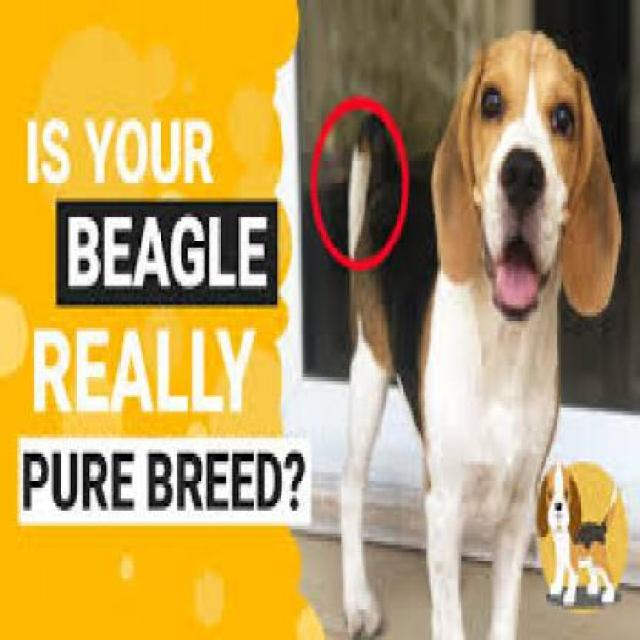Dog: (337, 28, 623, 637)
